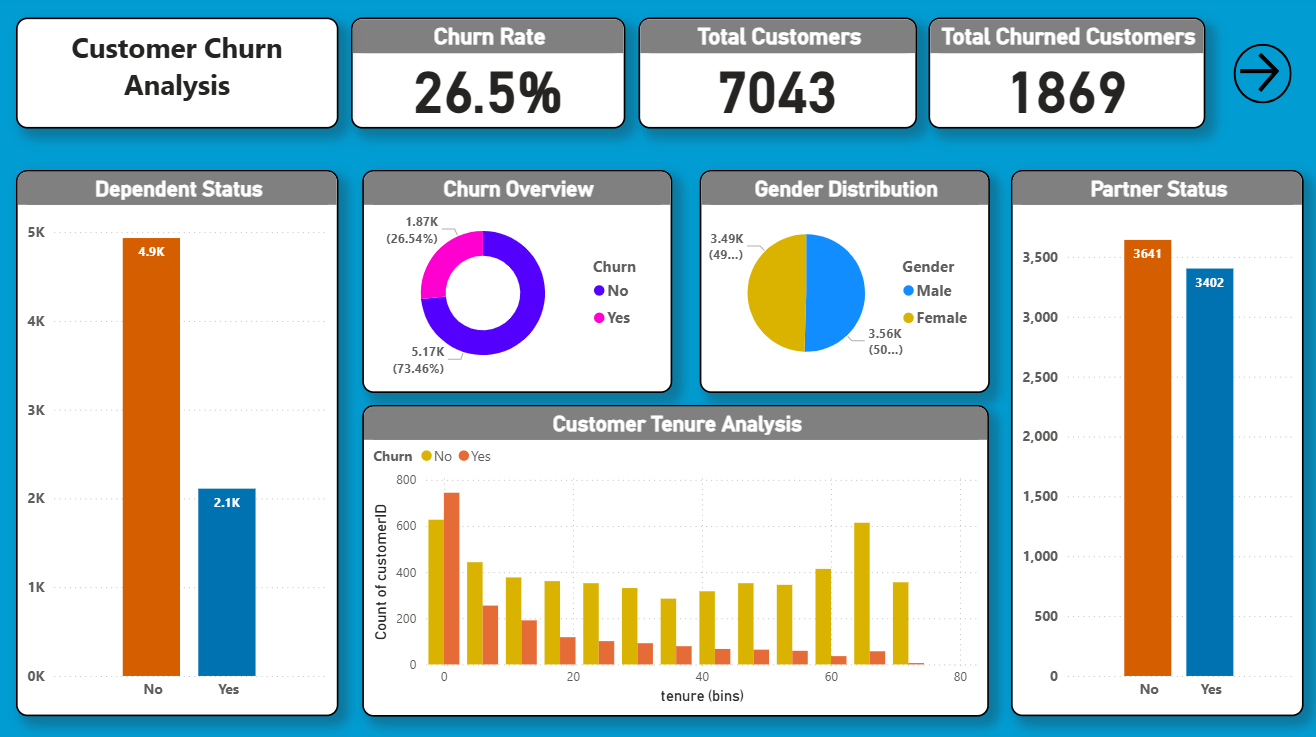

What the dashboard file says about the page in this screenshot:
{"tool":"powerbi","page":{"name":"Customer Overview","canvas":[1280,720],"ordinal":0},"visuals":[{"type":"card","title":"Churn Rate","fields":{"Values":["Churn_dataset.Churn Rate"]},"box":[343.1,22,264.8,107],"z":0},{"type":"card","title":"Total Customers","fields":{"Values":["CountNonNull(Churn_dataset.customerID)"]},"box":[620.2,22,269,107],"z":1000},{"type":"card","title":"Total Churned Customers","fields":{"Values":["Churn_dataset.Churn Count"]},"box":[900.2,22,267.6,107],"z":2000},{"type":"donutChart","title":"Churn Overview","fields":{"Category":["Churn_dataset.Churn"],"Y":["CountNonNull(Churn_dataset.customerID)"]},"box":[354,168.8,299.1,215.4],"z":3000},{"type":"pieChart","title":"Gender Distribution","fields":{"Category":["Churn_dataset.gender"],"Y":["CountNonNull(Churn_dataset.customerID)"]},"box":[679.2,168.8,279.9,215.4],"z":4000},{"type":"clusteredColumnChart","title":"Partner Status","fields":{"Category":["Churn_dataset.Partner"],"Y":["CountNonNull(Churn_dataset.customerID)"]},"box":[979.8,168.8,282.7,526.9],"z":5000},{"type":"clusteredColumnChart","title":"Dependent Status","fields":{"Category":["Churn_dataset.Dependents"],"Y":["CountNonNull(Churn_dataset.customerID)"]},"box":[19.2,168.8,311.5,526.9],"z":6000},{"type":"clusteredColumnChart","title":"Customer Tenure Analysis","fields":{"Category":["Churn_dataset.tenure (bins)"],"Y":["CountNonNull(Churn_dataset.customerID)"],"Series":["Churn_dataset.Churn"]},"box":[354,395.2,605.1,300.5],"z":7000},{"type":"textbox","box":[19.2,22,311.5,107],"z":8000},{"type":"shape","box":[1193.8,46.7,56.3,57.6],"z":9000},{"type":"actionButton","box":[1193.8,50.8,57.6,48],"z":10000}]}

Visuals, with their boxes in screenshot pixels (x1, y1, x2, y2), scaled from the page's 1280x720 canvas onto the 1316x737 screenshot:
"Churn Rate" card: BBox(353, 23, 625, 132)
"Total Customers" card: BBox(638, 23, 914, 132)
"Total Churned Customers" card: BBox(926, 23, 1201, 132)
"Churn Overview" donutChart: BBox(364, 173, 671, 393)
"Gender Distribution" pieChart: BBox(698, 173, 986, 393)
"Partner Status" clusteredColumnChart: BBox(1007, 173, 1298, 712)
"Dependent Status" clusteredColumnChart: BBox(20, 173, 340, 712)
"Customer Tenure Analysis" clusteredColumnChart: BBox(364, 405, 986, 712)
textbox: BBox(20, 23, 340, 132)
shape: BBox(1227, 48, 1285, 107)
actionButton: BBox(1227, 52, 1287, 101)
